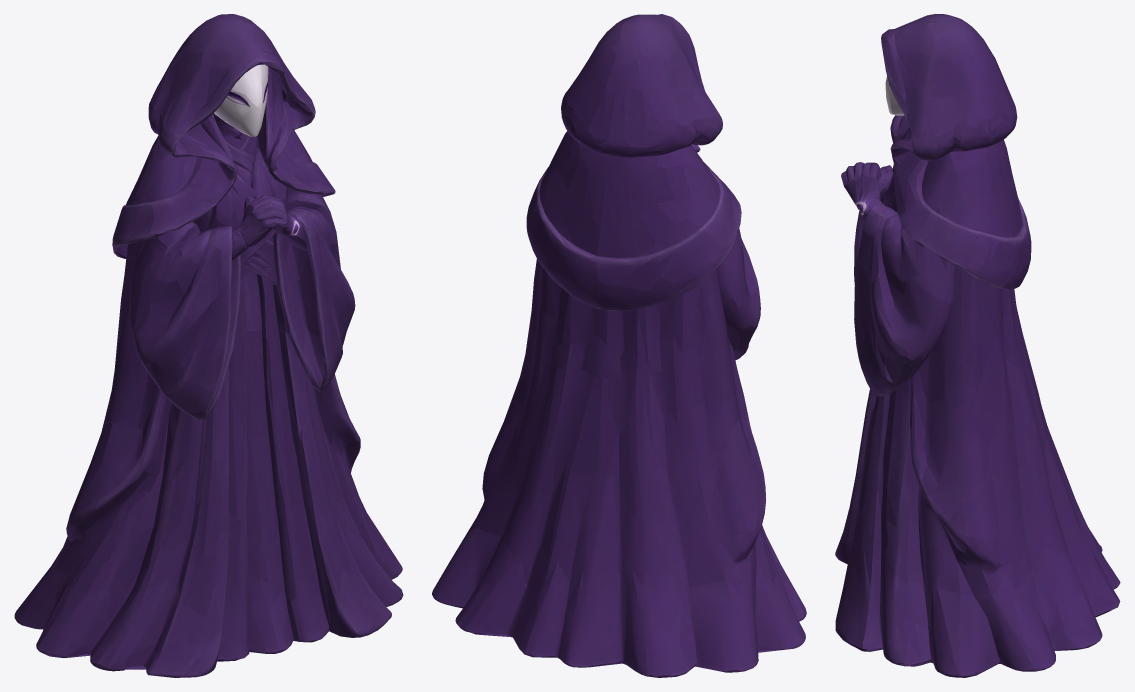
File: custode-muto.glb
The picture shows the model from 3 angles, left to right: view 1: azimuth 30°, elevation 25°; view 2: azimuth 150°, elevation 25°; view 3: azimuth 270°, elevation 25°; orthographic projection. The views are drawn at different scales.
Size of the model in its own units: 1.19 by 1.9 by 0.8506.
1 material, 1 textured.
